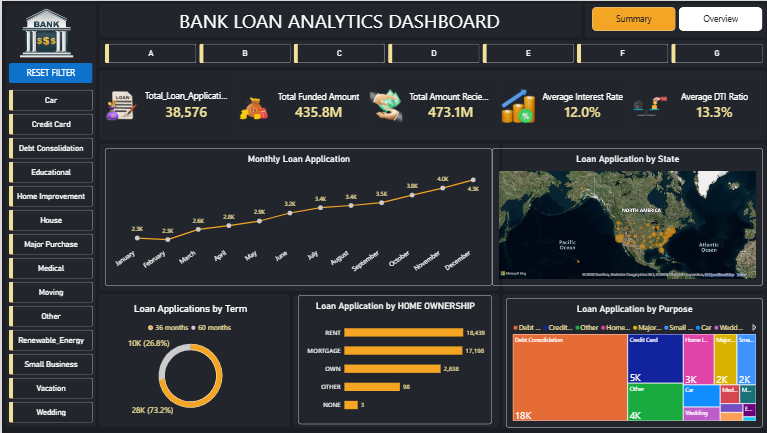

The page's visual inventory and layout, read from the dashboard file:
{"tool":"powerbi","page":{"name":"Overview","canvas":[1920,1080],"ordinal":1},"visuals":[{"type":"cardVisual","fields":{"Data":["financial_loan.Total_Loan_Application","financial_loan.Total Funded Amount","financial_loan.Total Amount Recieved","financial_loan.Average Interest Rate","financial_loan.Average DTI Rate"]},"box":[257.5,190,1644.4,144.4],"z":0},{"type":"image","box":[18.2,4.5,187.5,150],"z":1000},{"type":"advancedSlicerVisual","fields":{"Values":["financial_loan.PURPOSE"]},"box":[17.5,190,210,867.5],"z":2000},{"type":"advancedSlicerVisual","fields":{"Values":["financial_loan.GRADE"]},"box":[256.2,75,1646.2,80],"z":3000},{"type":"actionButton","box":[18.2,154.5,209.1,50],"z":4000},{"type":"textbox","box":[263.3,15.6,1163.3,71.1],"z":5000},{"type":"pageNavigator","box":[1475,15,427.5,60],"z":6000},{"type":"lineChart","title":"Monthly Loan Application","fields":{"Category":["financial_loan.ISSUE_DATE.Variation.Date Hierarchy.Month"],"Y":["financial_loan.Total_Loan_Application"]},"box":[256.8,368.2,968.2,345.5],"z":7000},{"type":"donutChart","title":"Loan Applications by Term","fields":{"Category":["financial_loan.TERM"],"Y":["financial_loan.Total_Loan_Application"]},"box":[257.5,742.5,427.5,315],"z":7001},{"type":"clusteredBarChart","title":"Loan Application by HOME OWNERSHIP","fields":{"Category":["financial_loan.HOME_OWNERSHIP"],"Y":["financial_loan.Total_Loan_Application"]},"box":[740,735,485,322.5],"z":7002},{"type":"treemap","title":"Loan Application by Purpose","fields":{"Group":["financial_loan.PURPOSE"],"Values":["financial_loan.Total_Loan_Application"]},"box":[1260,742.2,642.2,324.4],"z":7003},{"type":"map","title":"Loan Application by State","fields":{"Category":["financial_loan.ADDRESS_STATE"],"Size":["financial_loan.Total_Loan_Application"]},"box":[1225,368,677,345],"z":7004}]}

Visuals, with their boxes in screenshot pixels (x1, y1, x2, y2), scaled from the page's 1920x1080 canvas onto the 767x433 screenshot:
cardVisual - financial_loan.Total_Loan_Application x financial_loan.Total Funded Amount: x1=103 y1=76 x2=760 y2=134
image: x1=7 y1=2 x2=82 y2=62
advancedSlicerVisual - financial_loan.PURPOSE: x1=7 y1=76 x2=91 y2=424
advancedSlicerVisual - financial_loan.GRADE: x1=102 y1=30 x2=760 y2=62
actionButton: x1=7 y1=62 x2=91 y2=82
textbox: x1=105 y1=6 x2=570 y2=35
pageNavigator: x1=589 y1=6 x2=760 y2=30
"Monthly Loan Application" lineChart: x1=103 y1=148 x2=489 y2=286
"Loan Applications by Term" donutChart: x1=103 y1=298 x2=274 y2=424
"Loan Application by HOME OWNERSHIP" clusteredBarChart: x1=296 y1=295 x2=489 y2=424
"Loan Application by Purpose" treemap: x1=503 y1=298 x2=760 y2=428
"Loan Application by State" map: x1=489 y1=148 x2=760 y2=286
